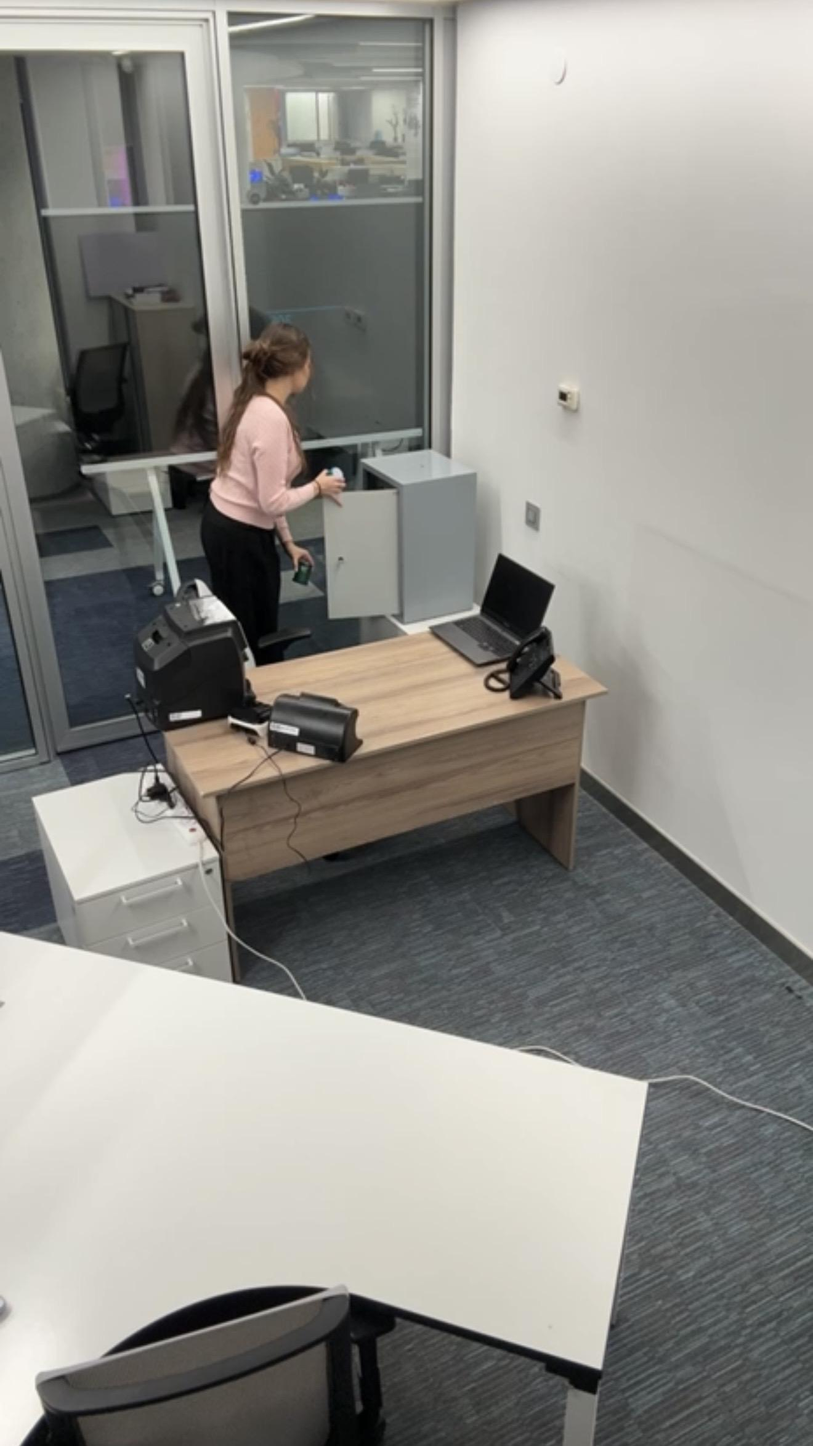counter: (138, 579, 259, 709)
folder: (287, 548, 318, 591)
key_in: (333, 546, 353, 575)
safe_open: (322, 452, 466, 616)
screen_locked: (460, 554, 556, 649)
uv_lamp: (269, 688, 363, 760)
